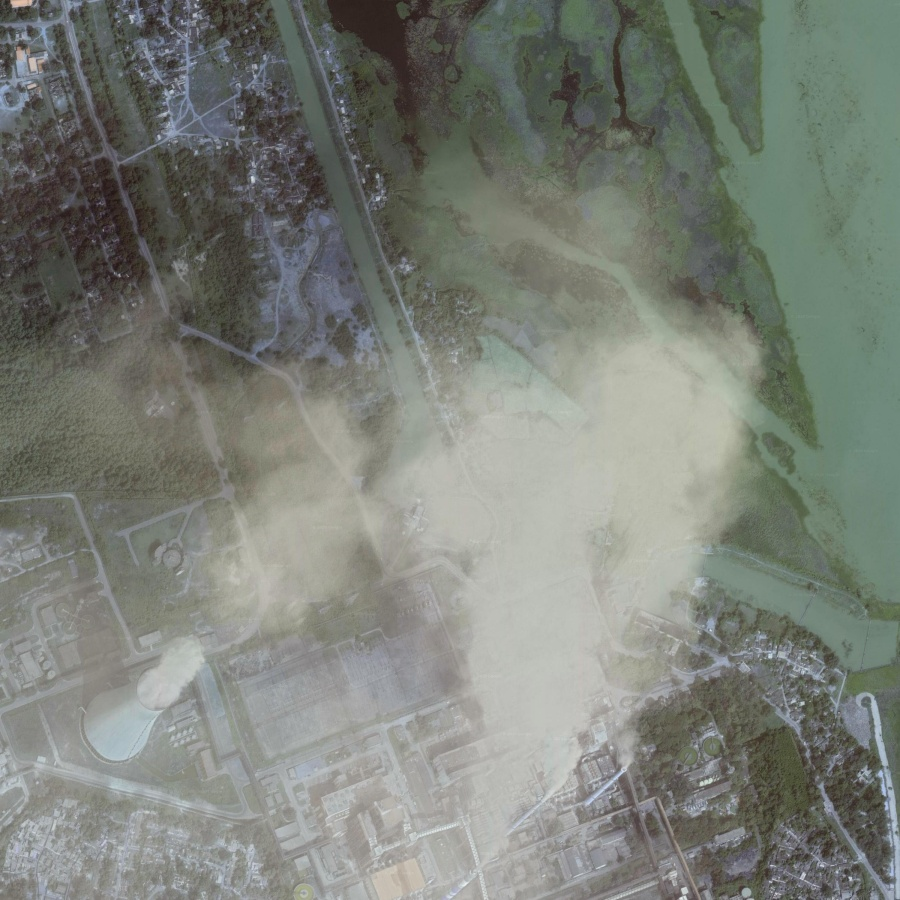PowerPlant: (73, 596, 228, 807)
